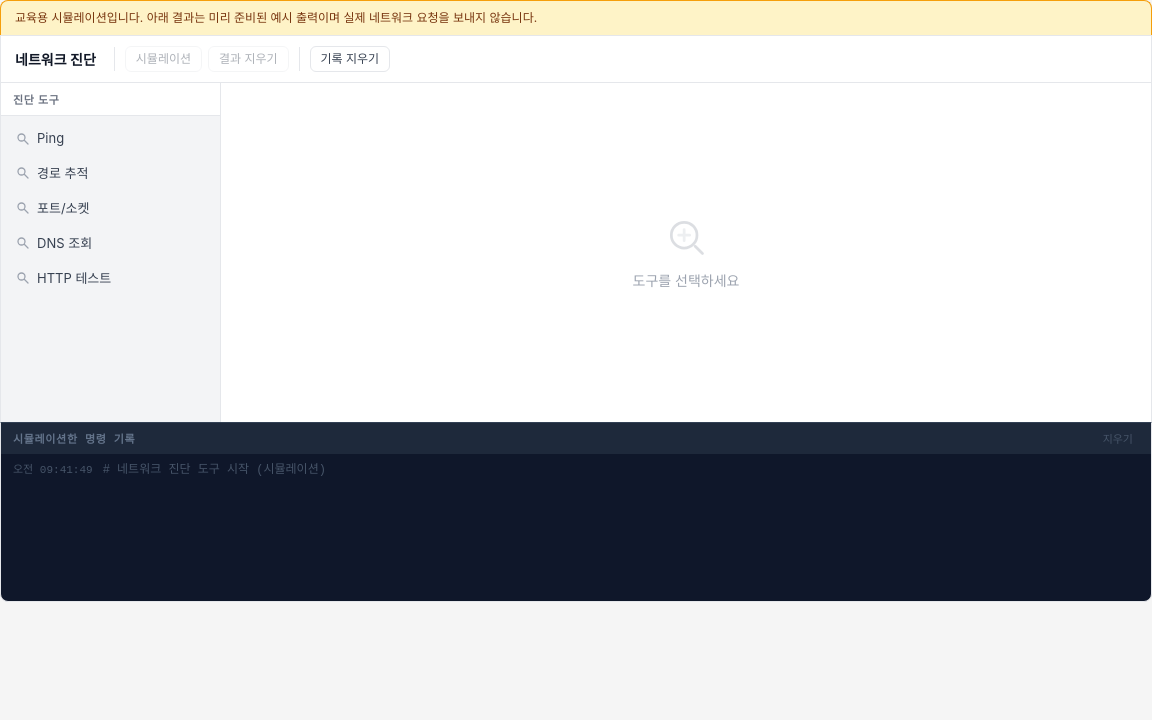
Test: NetworkDiagnostics simulation page › keeps the run action disabled until a tool is selected
The image size is (1152, 720).
Check: the button "시뮬레이션" is disabled, box 125,46 -> 202,72
Click the text "Ping" at (51, 138), box 37,130 -> 64,146
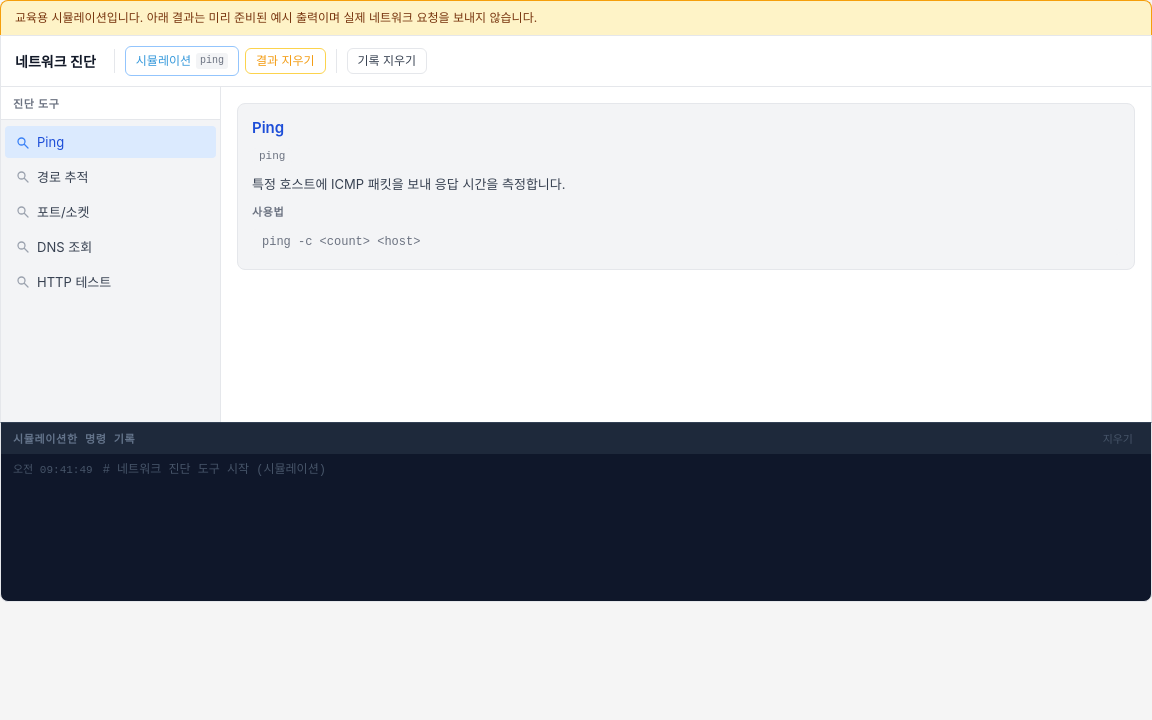
Check: the button "시뮬레이션 ping" is enabled, box 125,46 -> 239,76
